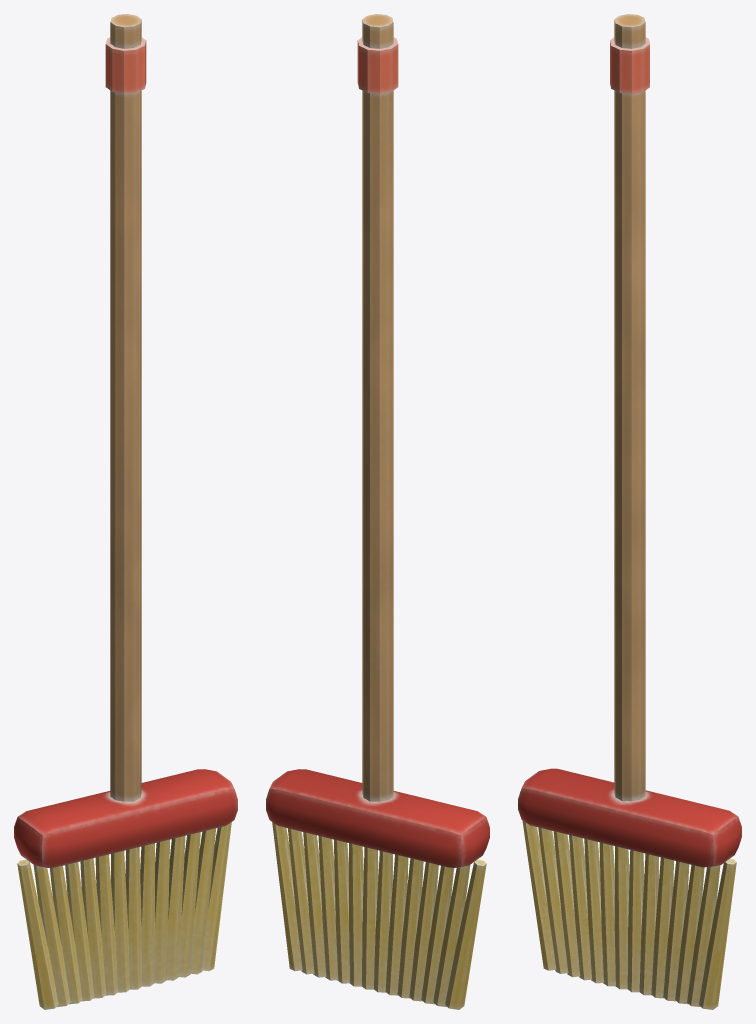
File: broom.glb
The picture shows the model from 3 angles, left to right: view 1: azimuth 30°, elevation 25°; view 2: azimuth 150°, elevation 25°; view 3: azimuth 330°, elevation 25°; orthographic projection.
Parts seen in each view (by area): view 1: SM_Broom; view 2: SM_Broom; view 3: SM_Broom.
Boxes of the visible parts, <box> form: SM_Broom: <box>14,14,237,1009</box>; SM_Broom: <box>266,14,489,1009</box>; SM_Broom: <box>518,14,741,1009</box>.
Size of the model in its own units: 0.3092 by 1.35 by 0.085.
1 material, 1 textured.
